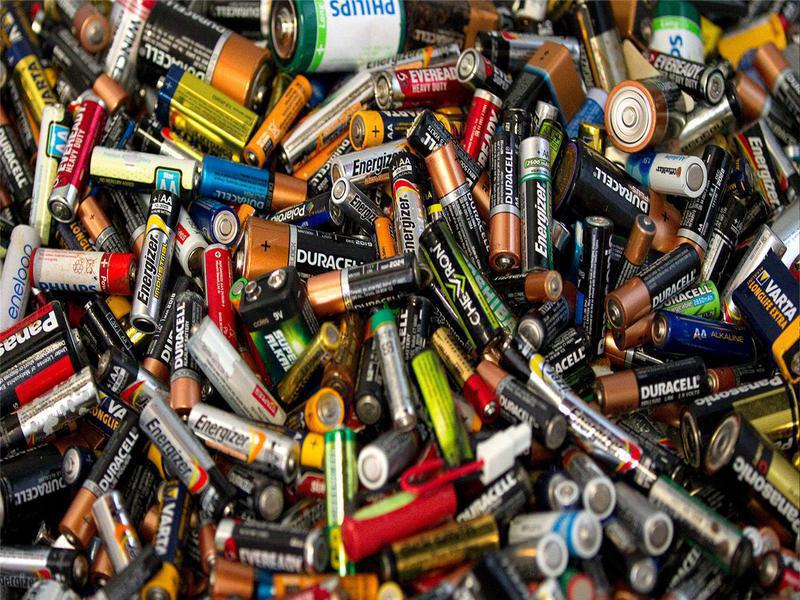battery: (419, 219, 507, 357), (601, 239, 712, 332), (183, 400, 300, 485), (152, 62, 260, 152), (471, 359, 571, 452), (126, 191, 185, 336), (304, 248, 422, 320), (45, 94, 109, 226), (588, 355, 714, 416), (241, 70, 318, 168), (476, 128, 526, 273), (192, 154, 311, 214), (268, 317, 346, 408), (645, 307, 767, 365), (29, 241, 141, 300)
